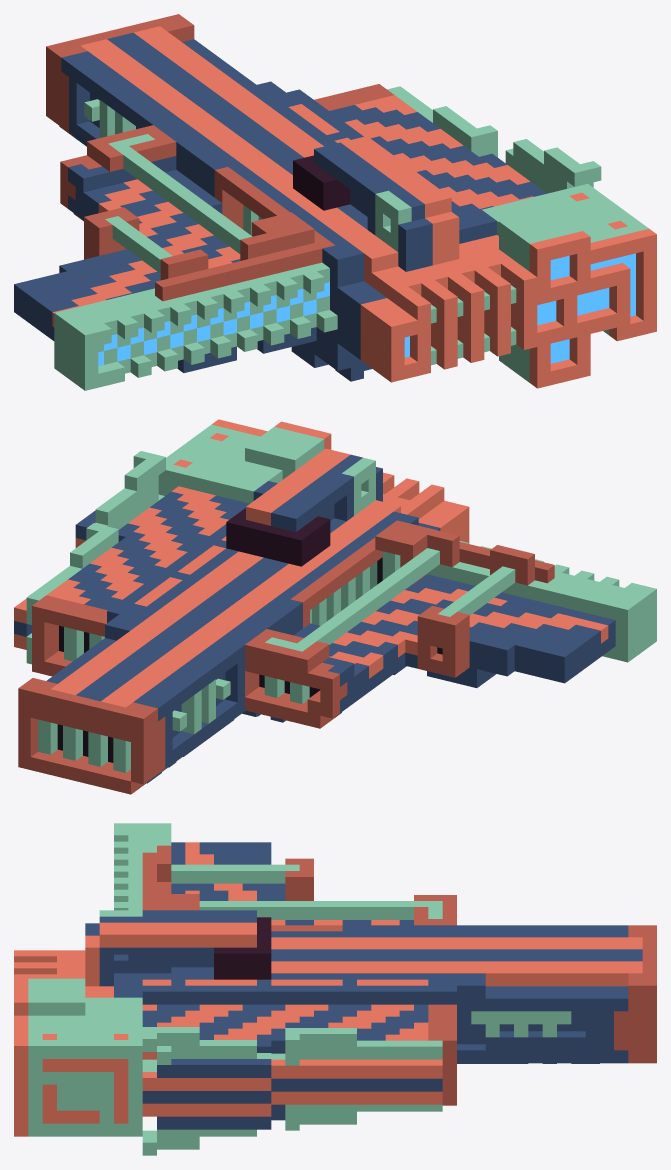
Rendered from comet-wing.glb.
3 views of the same model, one above another, from view 1: azimuth 30°, elevation 25°; view 2: azimuth 150°, elevation 25°; view 3: azimuth 270°, elevation 25° (orthographic). The views are drawn at different scales.
Visible parts, largest first — view 1: 4; view 2: 4; view 3: 4.
Boxes of the visible parts, x1=… form: 4: x1=14, y1=14, x2=656, y2=390; 4: x1=14, y1=419, x2=656, y2=794; 4: x1=14, y1=823, x2=656, y2=1155.
Size of the model in its own units: 40 by 12 by 45.
8 materials, 8 textured.
